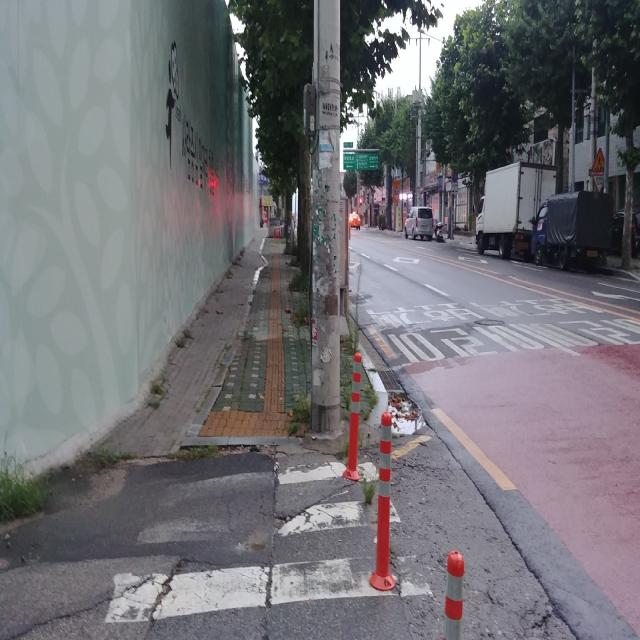횡단보도: (103, 459, 435, 627)
